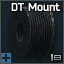SilencerCo Hybrid 46 Direct Thread Mount adapter: (0, 0, 64, 64)
